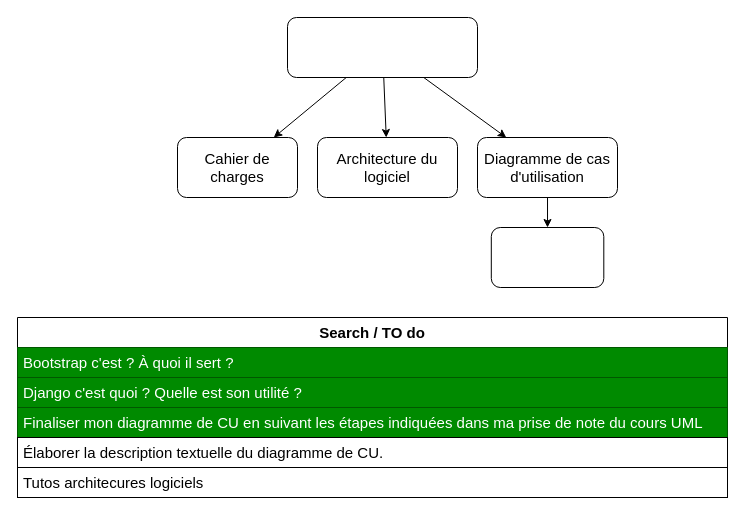
This 745x515 diagram has some shape labels left out. The centre of each missing label's shape, as x and y in pixels:
Diagramme de classe: the point at 547,257
Prise en main du projet: the point at 382,47
